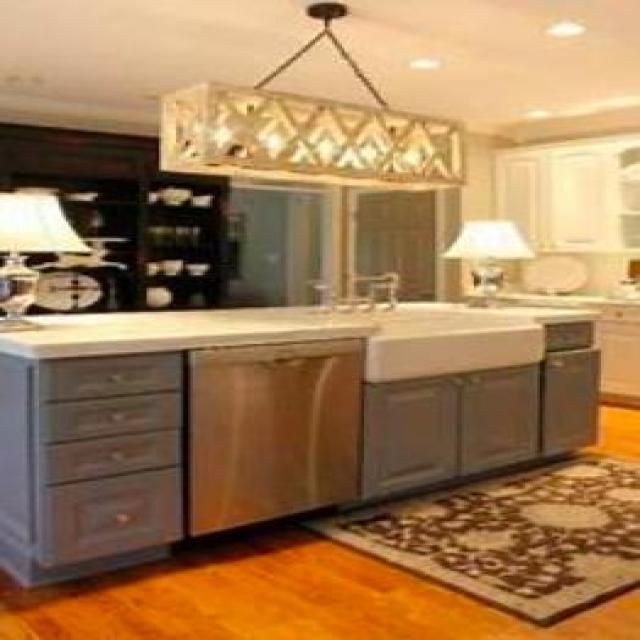dishwasher: (181, 334, 359, 540)
